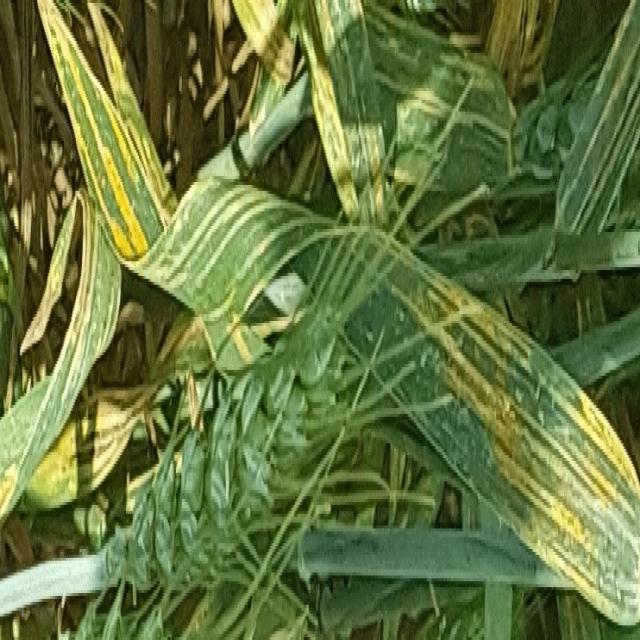Yellow_Rust: (400, 273, 638, 580)
